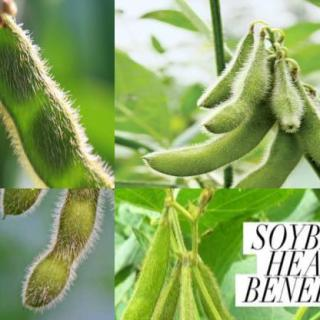soya: (0, 0, 114, 188), (22, 188, 100, 308), (144, 112, 277, 179), (204, 43, 270, 135), (115, 211, 170, 319), (193, 33, 256, 109), (226, 134, 305, 188), (198, 257, 248, 319), (115, 271, 179, 319), (271, 63, 304, 133), (170, 271, 192, 319)
